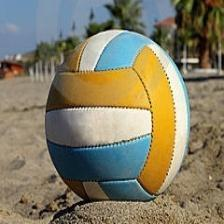Sports-Ball: (43, 36, 191, 203)
